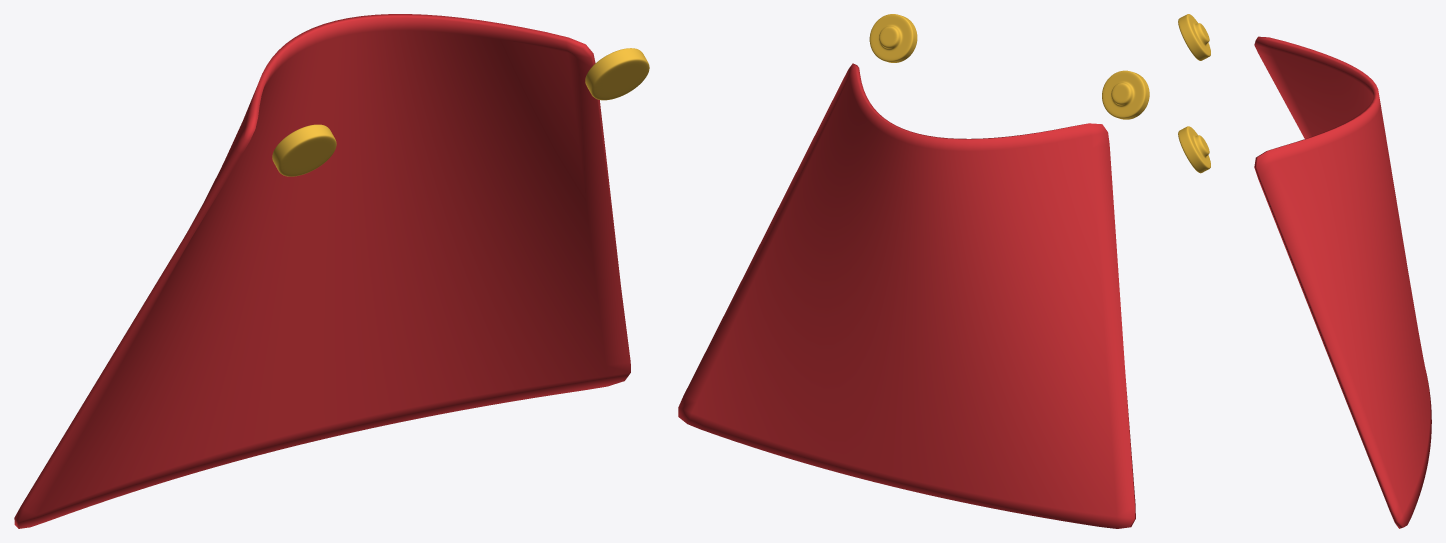
The model's file is cape.glb.
The picture shows the model from 3 angles, left to right: view 1: azimuth 30°, elevation 25°; view 2: azimuth 150°, elevation 25°; view 3: azimuth 270°, elevation 25°; orthographic projection. The views are drawn at different scales.
Parts seen in each view (by area): view 1: ACC_cape_cloth, ACC_cape_clasp1, ACC_cape_clasp-1; view 2: ACC_cape_cloth, ACC_cape_clasp-1, ACC_cape_clasp1; view 3: ACC_cape_cloth, ACC_cape_clasp1, ACC_cape_clasp-1.
Boxes of the visible parts, bbox=[...] form: ACC_cape_cloth: bbox=[14, 14, 630, 528]; ACC_cape_clasp1: bbox=[585, 48, 649, 100]; ACC_cape_clasp-1: bbox=[272, 124, 336, 176]; ACC_cape_cloth: bbox=[678, 63, 1135, 528]; ACC_cape_clasp-1: bbox=[1102, 70, 1149, 119]; ACC_cape_clasp1: bbox=[869, 14, 917, 62]; ACC_cape_cloth: bbox=[1254, 36, 1431, 528]; ACC_cape_clasp1: bbox=[1178, 126, 1210, 173]; ACC_cape_clasp-1: bbox=[1178, 14, 1210, 60].
Size of the model in its own units: 1.3 by 0.962 by 0.6305.
